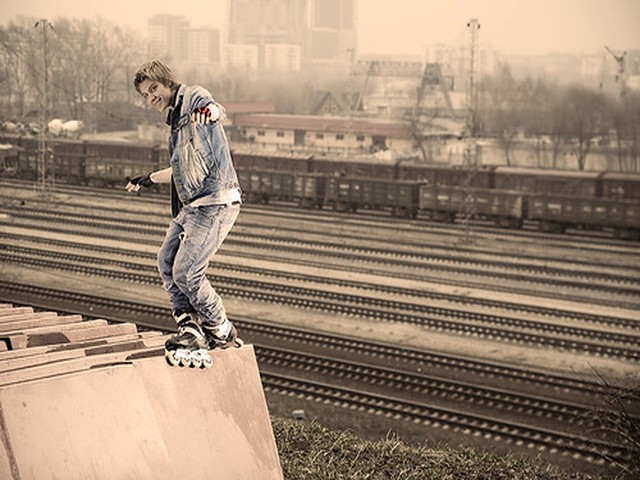Person: (123, 59, 250, 351)
